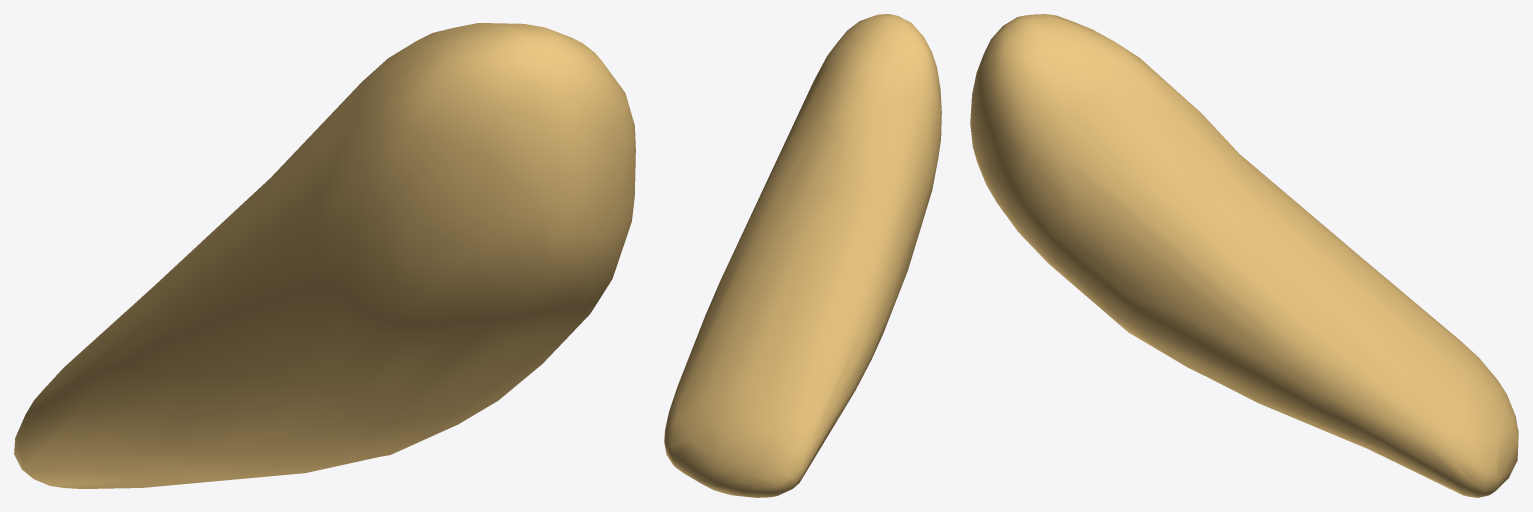
File: nervoso-central-lobule.glb
3 renders of one model, left to right at view 1: azimuth 30°, elevation 25°; view 2: azimuth 150°, elevation 25°; view 3: azimuth 270°, elevation 25°, orthographic. The views are drawn at different scales.
Visible parts, largest first — view 1: Central lobule; view 2: Central lobule; view 3: Central lobule.
Part boxes in pixels (<box>): Central lobule: <box>14,23,635,488</box>; Central lobule: <box>664,14,941,497</box>; Central lobule: <box>970,14,1518,497</box>.
Bounding box in the file's own units: 0.0077 × 0.0158 × 0.017.
